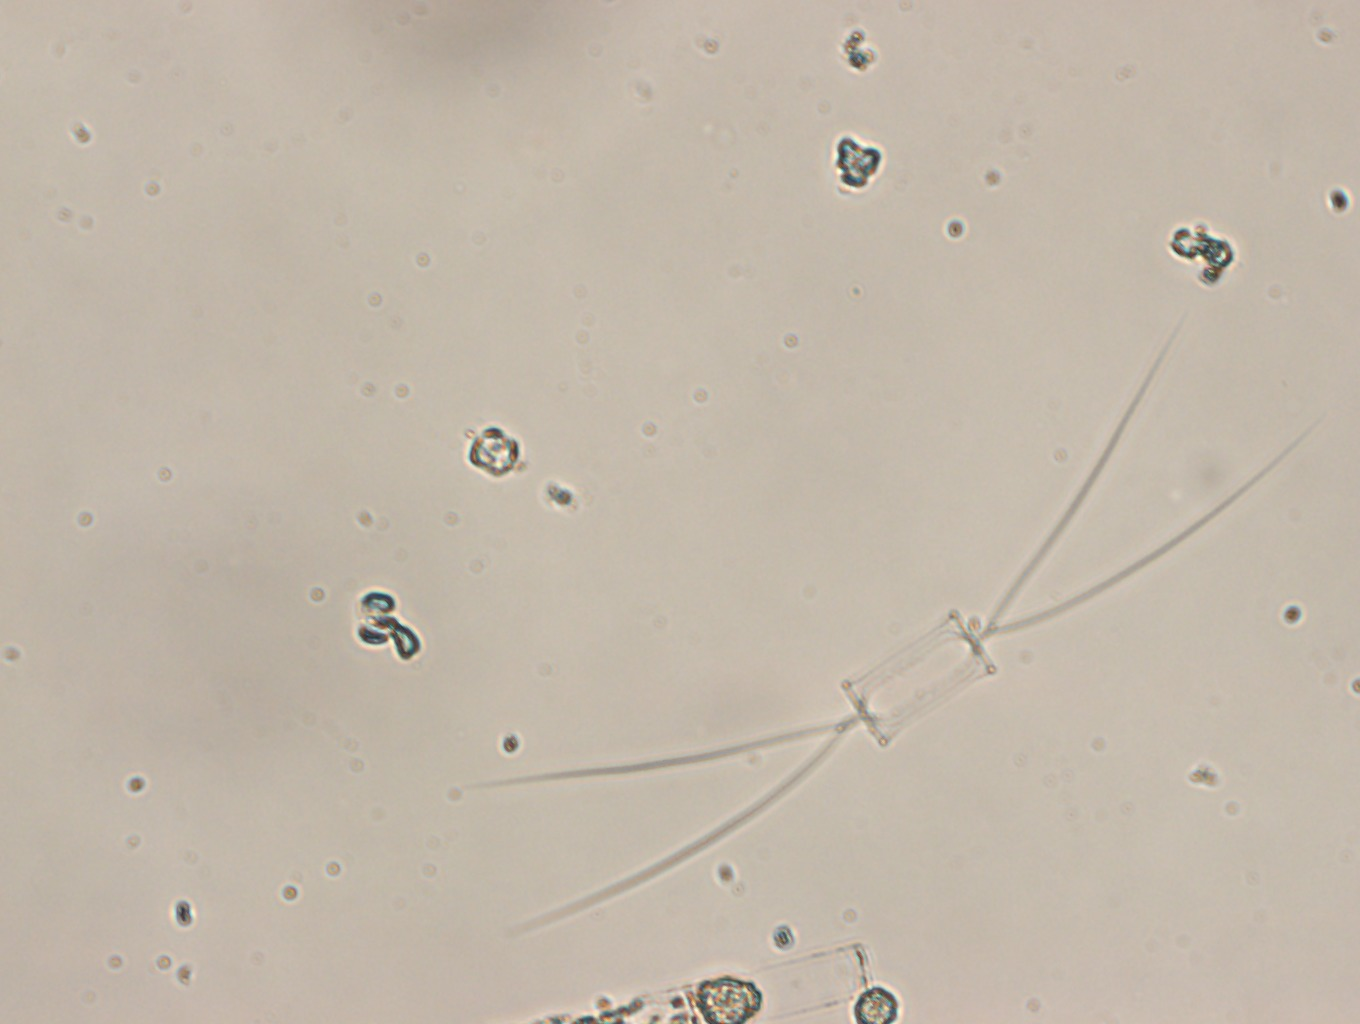chaetoceros: (455, 305, 1322, 939)
